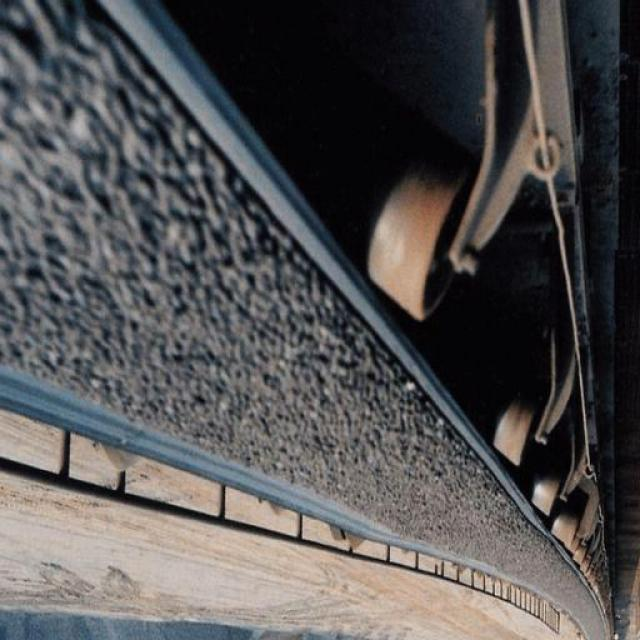conveyor: (0, 0, 615, 638)
